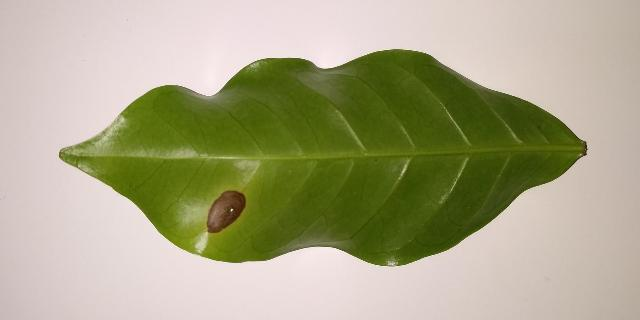rust: (207, 191, 246, 233)
